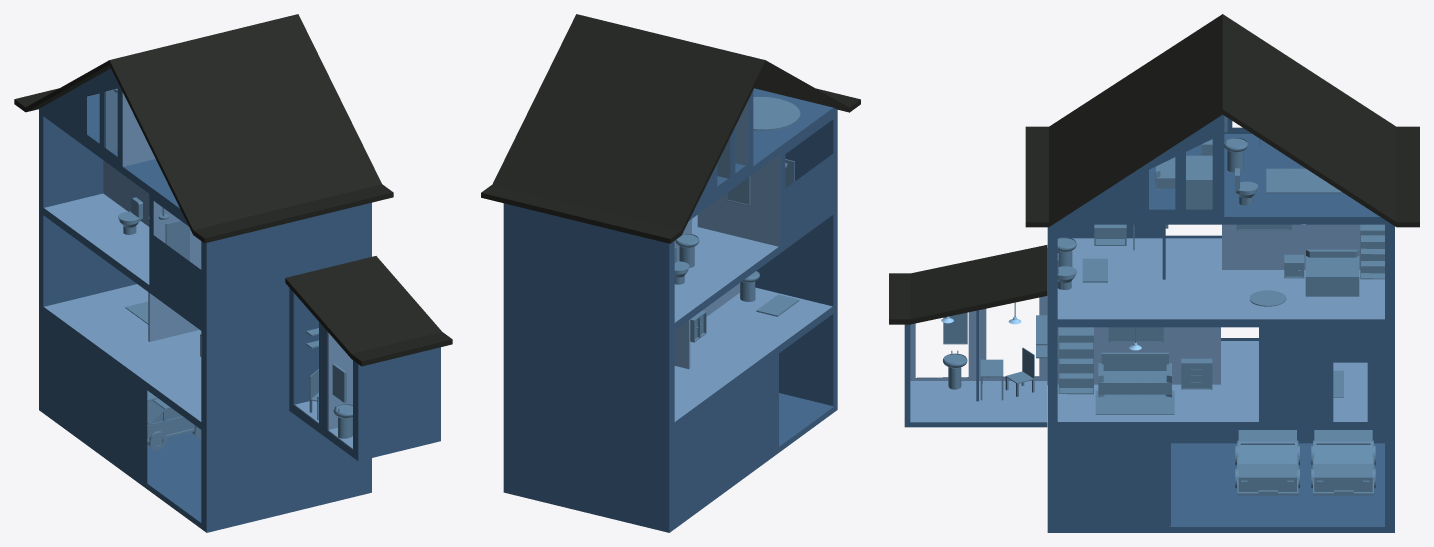
The model's file is house-kinewall.glb.
The picture shows the model from 3 angles, left to right: view 1: azimuth 30°, elevation 25°; view 2: azimuth 150°, elevation 25°; view 3: azimuth 270°, elevation 25°; orthographic projection. The views are drawn at different scales.
Visible parts, largest first — view 1: Cube.125, Cube.112, Grid.005, Cube.010, Cube.113, Cube.013, Cube.117, Cube.009, Cube.012, Cylinder.001, Cube.123, Cube.120 (+7 smaller); view 2: Cube.125, Cube.112, Grid.005, Cube.113, Cube.117, Cube.122, Cylinder.035, Cube.009, Cube.120, Cube.121, Cylinder.060, Cube.055 (+1 smaller); view 3: Cube.112, Grid.002, Cube.125, Cube.117, Cube.113, Cube.010, Cube.014, Cube.018, Cube.123, Cylinder.001, Cylinder, Cube.118 (+18 smaller).
Part boxes in pixels (x1=…): Cube.125: x1=39, y1=92, x2=371, y2=532; Cube.112: x1=14, y1=14, x2=393, y2=243; Grid.005: x1=39, y1=107, x2=205, y2=531; Cube.010: x1=285, y1=256, x2=452, y2=366; Cube.113: x1=44, y1=284, x2=201, y2=421; Cube.013: x1=355, y1=347, x2=440, y2=461; Cube.117: x1=44, y1=193, x2=149, y2=284; Cube.009: x1=42, y1=68, x2=122, y2=166; Cube.012: x1=289, y1=288, x2=357, y2=459; Cylinder.001: x1=147, y1=398, x2=201, y2=450; Cube.123: x1=103, y1=160, x2=149, y2=226; Cube.120: x1=148, y1=292, x2=199, y2=341; Cube.125: x1=503, y1=88, x2=837, y2=532; Cube.112: x1=481, y1=14, x2=860, y2=243; Grid.005: x1=670, y1=107, x2=837, y2=531; Cube.113: x1=674, y1=287, x2=832, y2=421; Cube.117: x1=674, y1=215, x2=778, y2=322; Cube.122: x1=697, y1=154, x2=780, y2=246; Cylinder.035: x1=753, y1=96, x2=800, y2=130; Cube.009: x1=695, y1=90, x2=753, y2=208; Cube.120: x1=674, y1=319, x2=690, y2=369; Cube.121: x1=735, y1=101, x2=748, y2=165; Cylinder.060: x1=675, y1=234, x2=699, y2=267; Cube.055: x1=756, y1=294, x2=799, y2=316; Cube.112: x1=1025, y1=14, x2=1419, y2=227; Grid.002: x1=1049, y1=217, x2=1393, y2=532; Cube.125: x1=1047, y1=134, x2=1394, y2=532; Cube.117: x1=1057, y1=238, x2=1384, y2=319; Cube.113: x1=1057, y1=341, x2=1367, y2=421; Cube.010: x1=889, y1=245, x2=1047, y2=324; Cube.014: x1=910, y1=381, x2=1047, y2=427; Cube.018: x1=1065, y1=116, x2=1221, y2=216; Cube.123: x1=1222, y1=224, x2=1360, y2=269; Cylinder.001: x1=1235, y1=430, x2=1299, y2=495; Cylinder: x1=1311, y1=430, x2=1375, y2=495; Cube.118: x1=1057, y1=327, x2=1220, y2=384.
Bounding box in the file's own units: 15.99 × 33.5 × 37.56.
2 materials, 2 textured.
